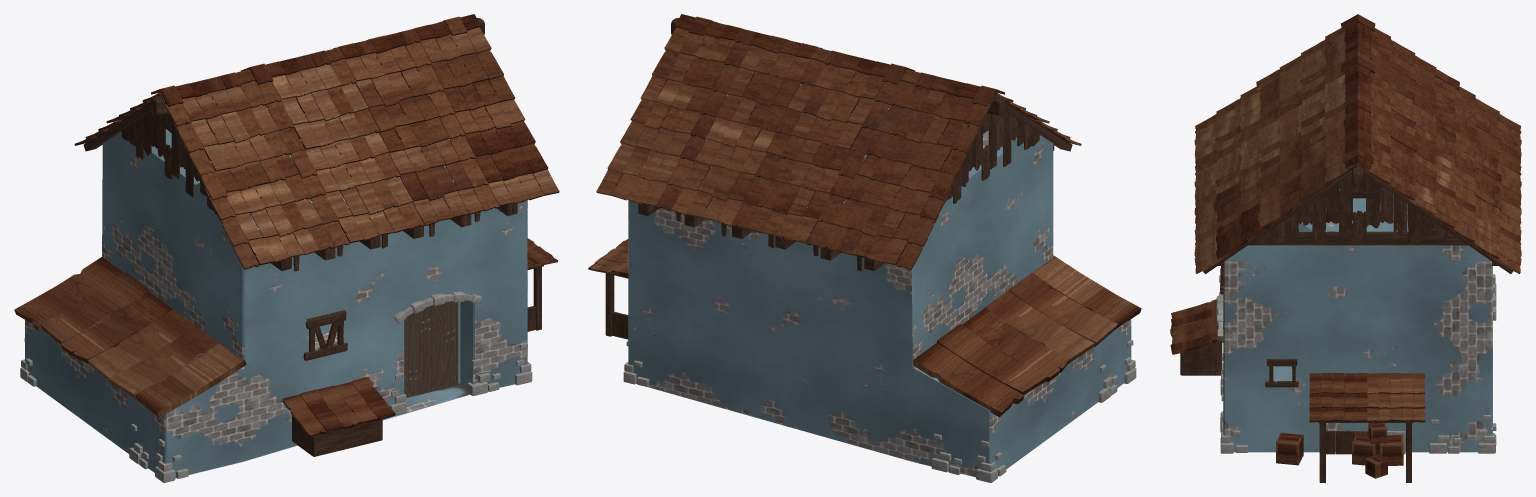
The model's file is house_2.gltf.
3 renders of one model, left to right at view 1: azimuth 30°, elevation 25°; view 2: azimuth 150°, elevation 25°; view 3: azimuth 270°, elevation 25°, orthographic. The views are drawn at different scales.
Visible parts, largest first — view 1: pCube1, polySurface55, pCube16, pCube17, pCube15, pCube85, pCube9, pCube112, pCube84, pCube81, polySurface58, pCube69 (+1 smaller); view 2: pCube1, polySurface55, pCube16, pCube17, pCube85, pCube113, pCube112, pCube96, pCube32, pCube84; view 3: polySurface55, pCube1, pCube65, pCube94, pCube15, pCube42, pCube95, pCube96, pCube31, pCube9, pCube83, pCube86 (+9 smaller).
Boxes of the visible parts, x1,y1,x2,y2 form: pCube1: (25,72,527,478); polySurface55: (74,14,559,269); pCube16: (14,257,246,417); pCube17: (88,309,219,398); pCube15: (282,377,395,437); pCube85: (121,111,217,214); pCube9: (292,415,382,456); pCube112: (271,203,517,270); pCube84: (129,423,188,482); pCube81: (467,343,532,395); polySurface58: (303,310,347,360); pCube69: (393,291,481,323); pCube1: (628,72,1131,477); polySurface55: (596,14,1081,269); pCube16: (913,255,1141,417); pCube17: (984,272,1117,363); pCube85: (945,111,1039,203); pCube113: (931,433,1006,482); pCube112: (638,203,884,271); pCube96: (588,239,628,274); pCube32: (903,103,1072,251); pCube84: (1098,340,1136,402); polySurface55: (1194,14,1521,273); pCube1: (1223,189,1492,452); pCube65: (1258,174,1448,244); pCube94: (1309,373,1424,394); pCube15: (1170,299,1223,354); pCube42: (1248,232,1467,245); pCube95: (1309,389,1424,408); pCube96: (1309,403,1425,422); pCube31: (1203,164,1513,274); pCube9: (1180,340,1222,375); pCube83: (1429,415,1496,453); pCube86: (1276,432,1303,465).
Bounding box in the file's own units: 40.64 × 28.07 × 28.78.
Materials: 5 (5 with a texture image).
